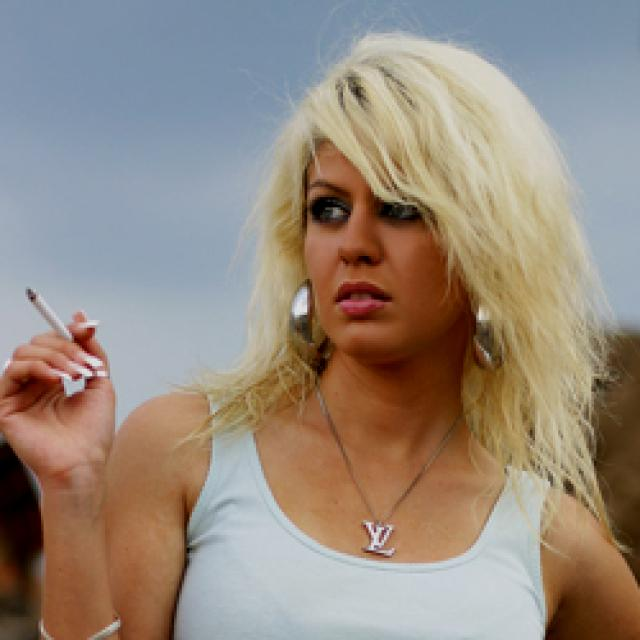Smooking: (16, 280, 82, 342)
